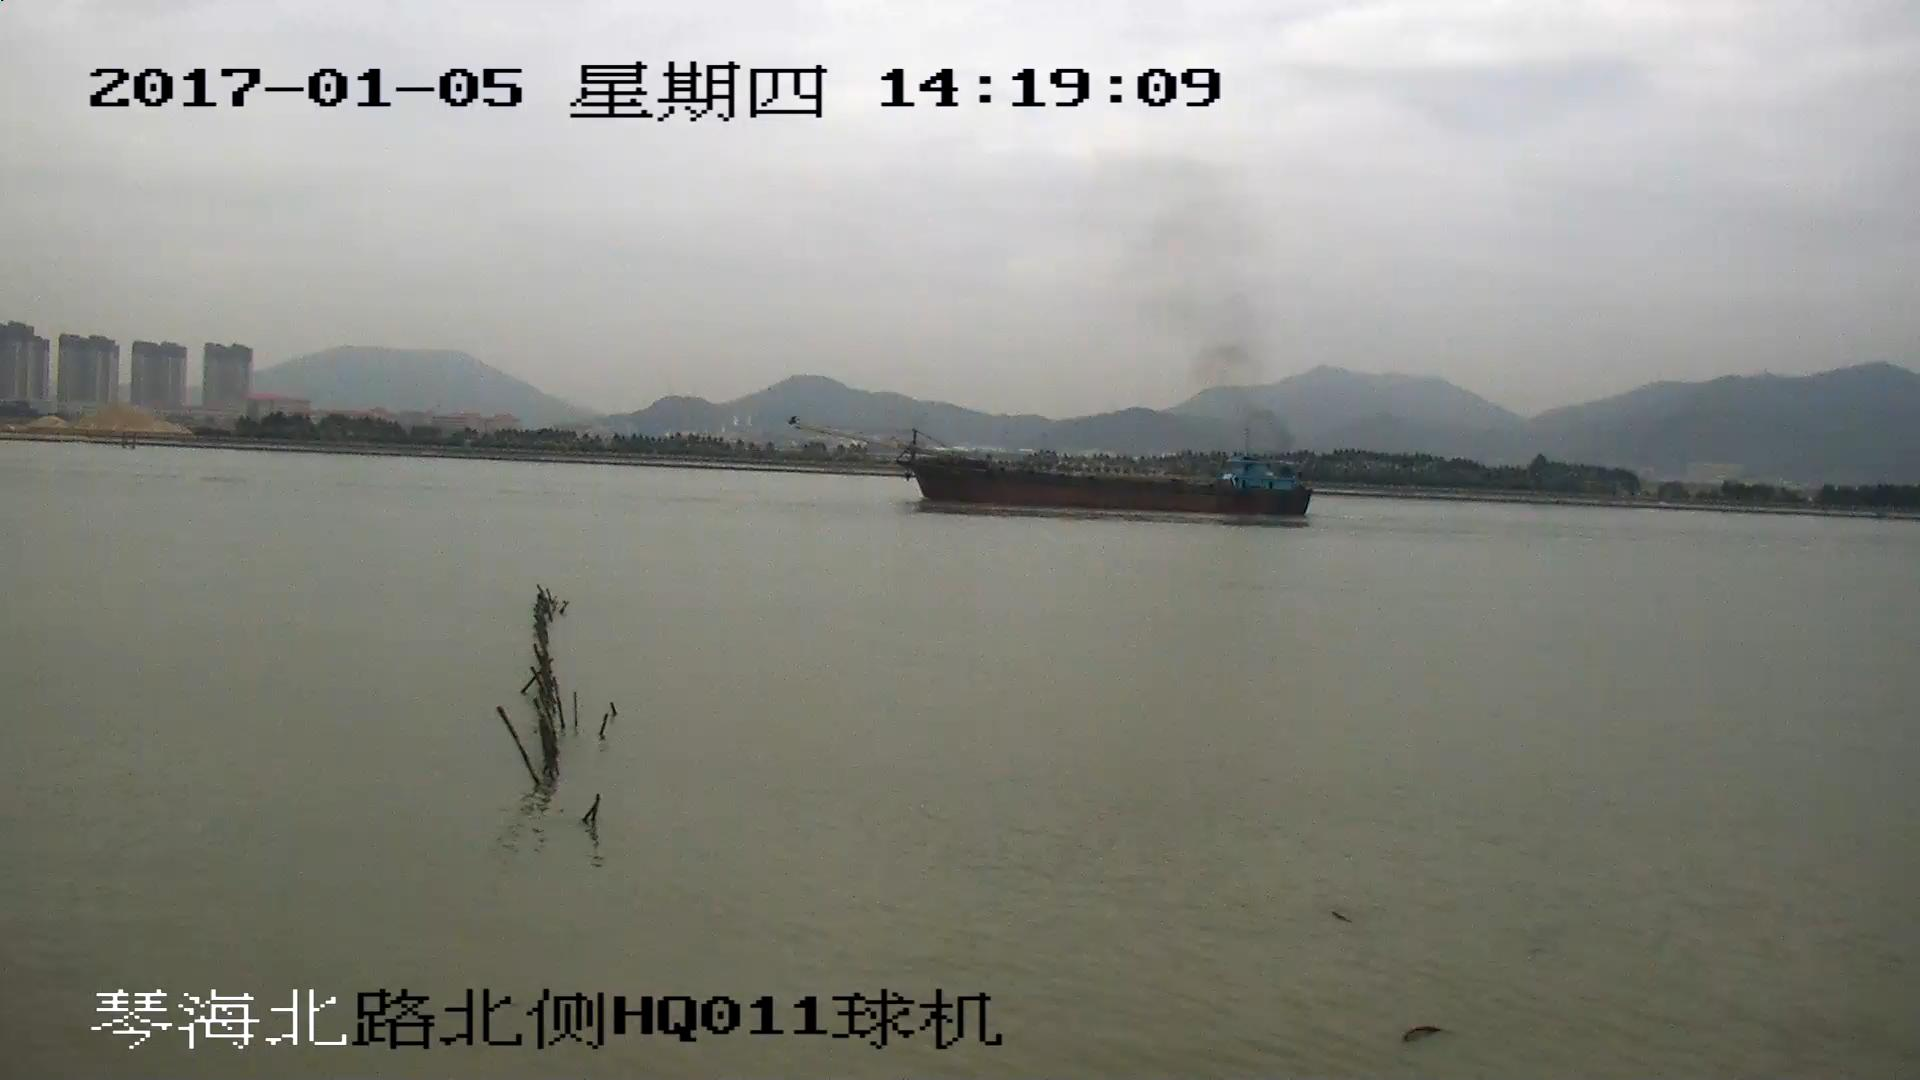bulk cargo carrier: (795, 421, 1312, 516)
